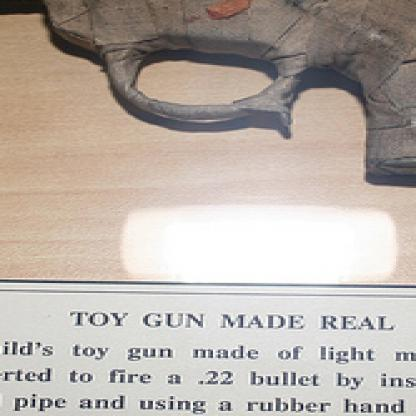gun: (0, 0, 414, 195)
